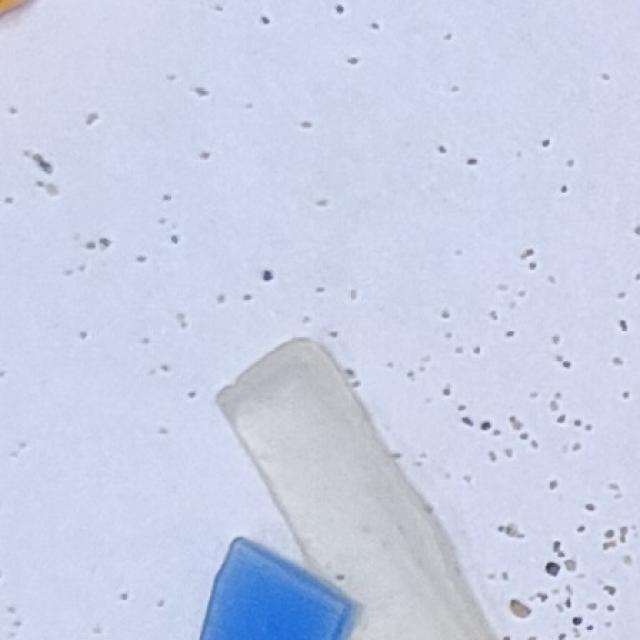fragments: (197, 535, 365, 640), (0, 1, 1, 1)
